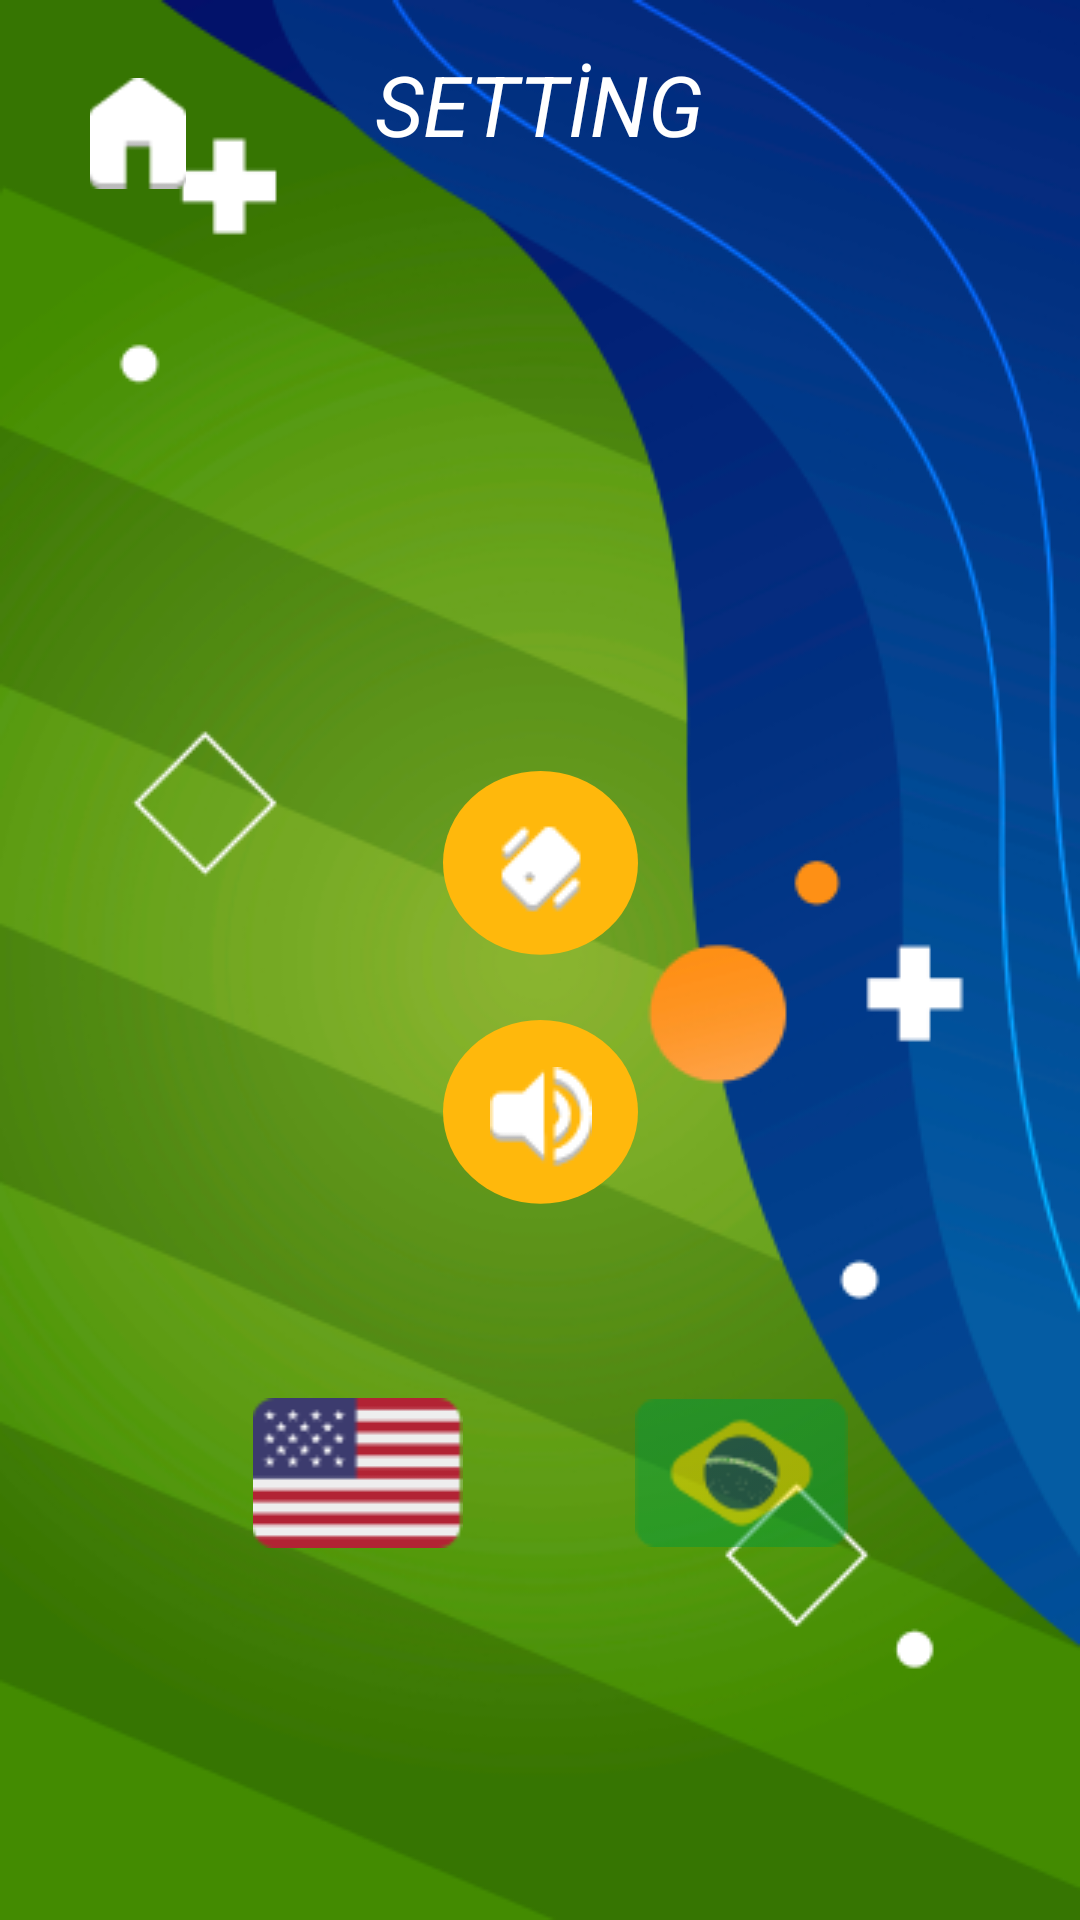

Point at icon controls on the screen. Image size 1080x1920, points as [x,y].
brazil: [741,1473]
home: [139,133]
volume: [540,1117]
